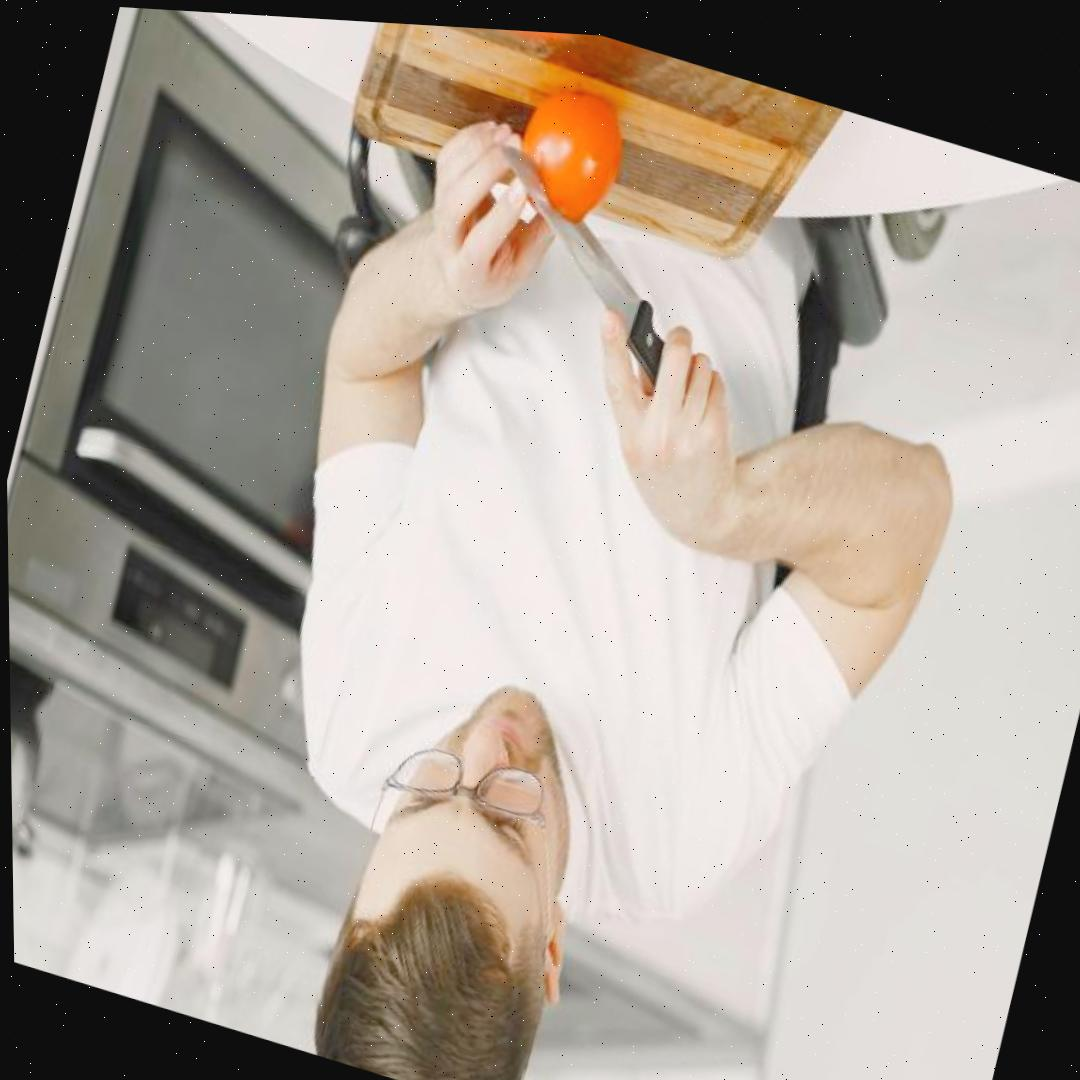matang: (504, 77, 634, 233)
